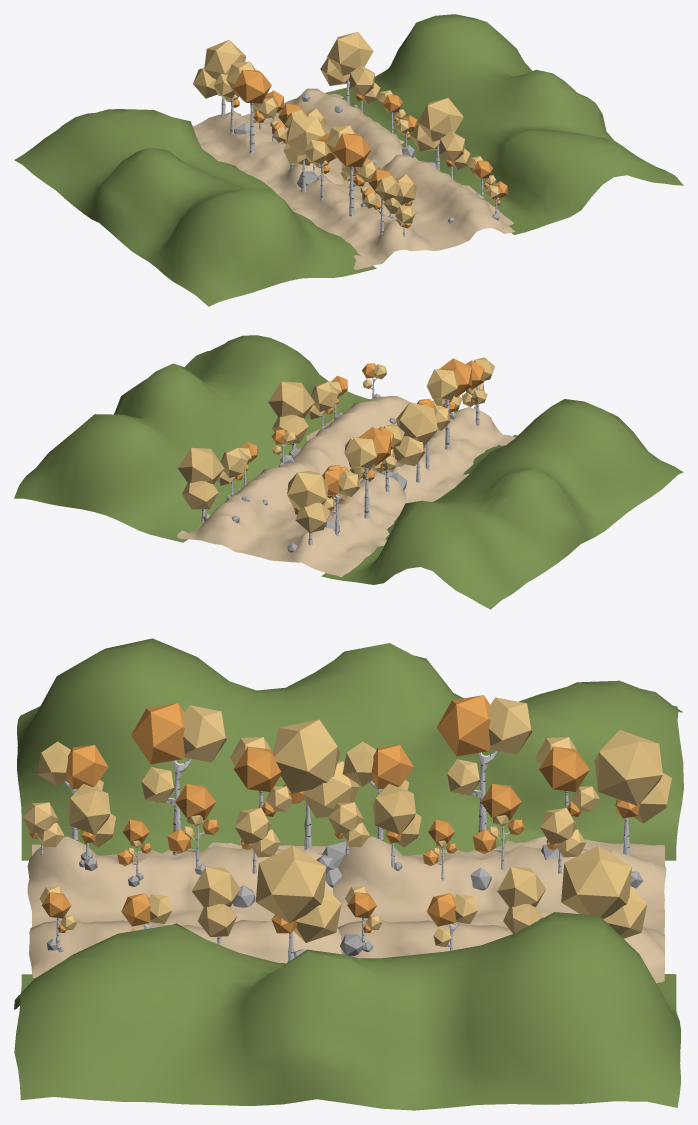
The model's file is lesson1_edit.fbx.
The picture shows the model from 3 angles, top to bottom: view 1: azimuth 30°, elevation 25°; view 2: azimuth 150°, elevation 25°; view 3: azimuth 270°, elevation 25°; orthographic projection. The views are drawn at different scales.
Parts seen in each view (by area): view 1: pPlane2, pPlane4, pPlane1, pPlane3, group24, group13, group16, group17, group19, group8, group4, group23 (+7 smaller); view 2: pPlane2, pPlane4, pPlane3, pPlane1, group17, group19, group8, group16, group24, group13, group25, group4 (+6 smaller); view 3: pPlane4, pPlane2, pPlane3, pPlane1, group24, group13, group16, group8, group19, group17, group25, group14 (+18 smaller).
Part boxes in pixels (x1=…): pPlane2: x1=14, y1=109, x2=376, y2=306; pPlane4: x1=325, y1=14, x2=683, y2=234; pPlane1: x1=277, y1=154, x2=515, y2=269; pPlane3: x1=192, y1=88, x2=417, y2=194; group24: x1=226, y1=61, x2=278, y2=153; group13: x1=326, y1=125, x2=376, y2=216; group16: x1=410, y1=98, x2=463, y2=170; group17: x1=320, y1=32, x2=373, y2=104; group19: x1=193, y1=40, x2=245, y2=117; group8: x1=283, y1=116, x2=326, y2=192; group4: x1=363, y1=169, x2=400, y2=236; group23: x1=349, y1=65, x2=380, y2=112; pPlane2: x1=321, y1=399, x2=683, y2=609; pPlane4: x1=14, y1=335, x2=370, y2=542; pPlane3: x1=177, y1=462, x2=407, y2=577; pPlane1: x1=293, y1=396, x2=515, y2=503; group17: x1=178, y1=447, x2=224, y2=521; group19: x1=287, y1=470, x2=330, y2=545; group8: x1=393, y1=402, x2=437, y2=482; group16: x1=268, y1=381, x2=314, y2=448; group24: x1=346, y1=426, x2=390, y2=518; group13: x1=427, y1=358, x2=471, y2=449; group25: x1=322, y1=469, x2=360, y2=536; group4: x1=466, y1=357, x2=494, y2=425; pPlane4: x1=14, y1=912, x2=680, y2=1110; pPlane2: x1=17, y1=638, x2=683, y2=860; pPlane3: x1=333, y1=836, x2=666, y2=983; pPlane1: x1=27, y1=836, x2=359, y2=977; group24: x1=436, y1=695, x2=532, y2=831; group13: x1=131, y1=703, x2=226, y2=855; group16: x1=255, y1=846, x2=341, y2=961; group8: x1=272, y1=719, x2=359, y2=850; group19: x1=594, y1=730, x2=671, y2=855; group17: x1=561, y1=845, x2=646, y2=938; group25: x1=535, y1=737, x2=599, y2=816; group14: x1=230, y1=737, x2=291, y2=816.
Size of the model in its own units: 146 by 28.59 by 102.
